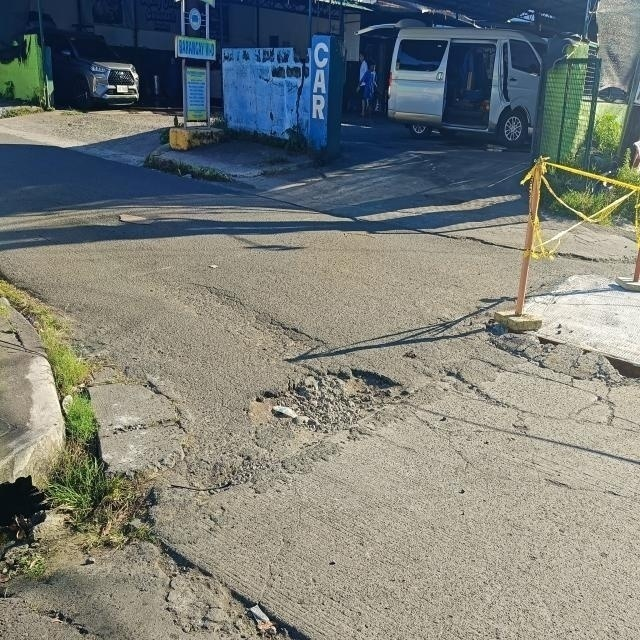pothole: (250, 355, 408, 452)
